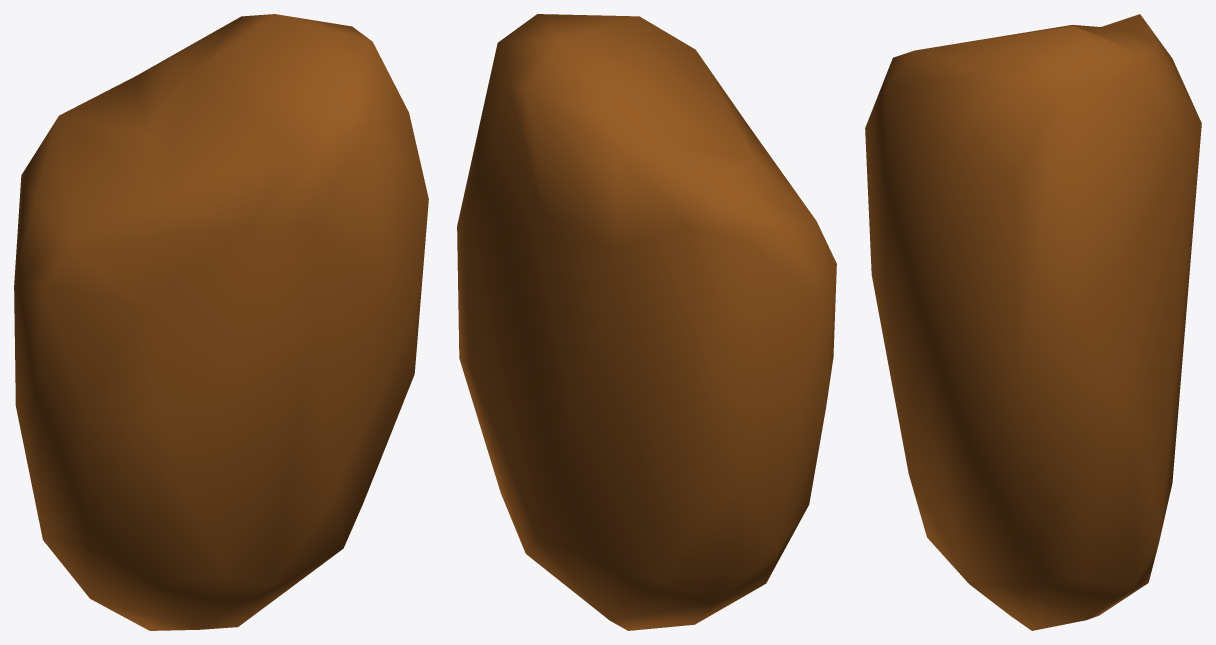
The model's file is SoftRock_18.fbx.
3 renders of one model, left to right at view 1: azimuth 30°, elevation 25°; view 2: azimuth 150°, elevation 25°; view 3: azimuth 270°, elevation 25°, orthographic. The views are drawn at different scales.
Parts seen in each view (by area): view 1: SoftRock_18; view 2: SoftRock_18; view 3: SoftRock_18.
Part boxes in pixels (x1,y1,x2,y2): SoftRock_18: (14,14,428,630); SoftRock_18: (457,14,836,630); SoftRock_18: (865,14,1201,630).
Size of the model in its own units: 65.27 by 94.87 by 45.76.
